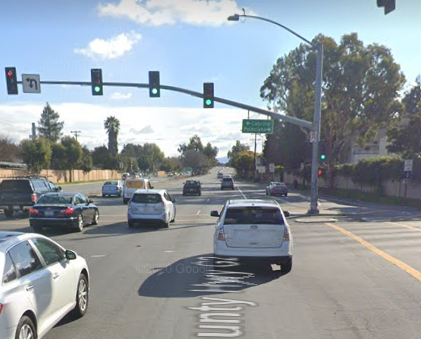green_light: (91, 69, 102, 93), (149, 72, 160, 95), (204, 83, 213, 106), (319, 141, 328, 161)
